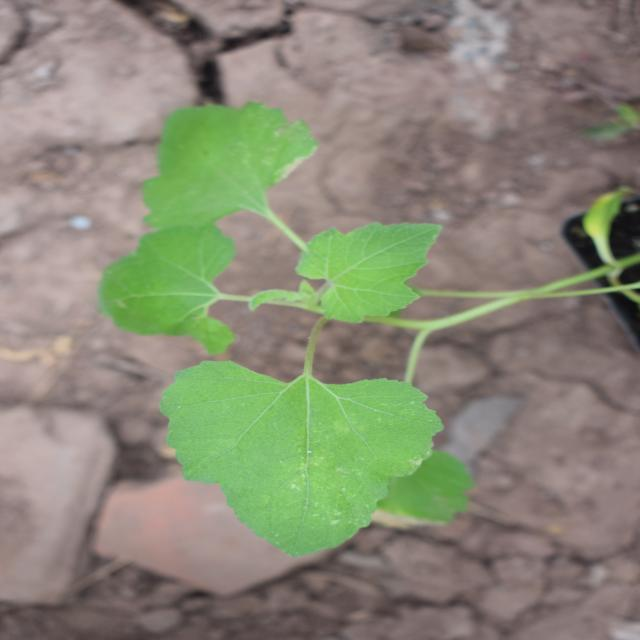cocklebur: (91, 110, 510, 502)
